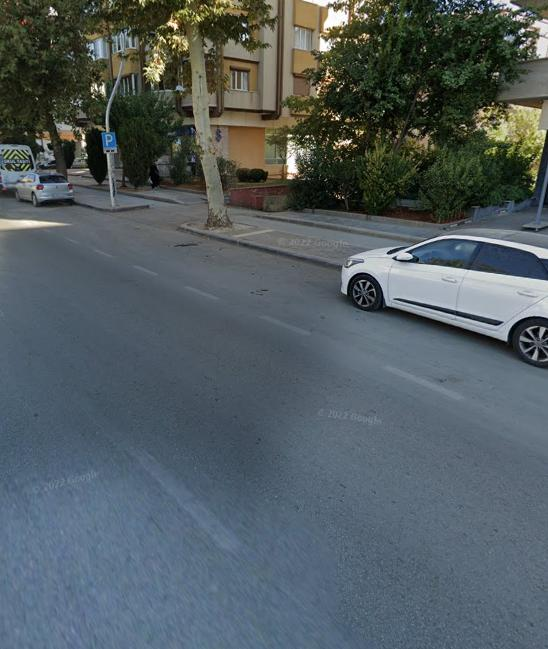park: (103, 134, 116, 149)
